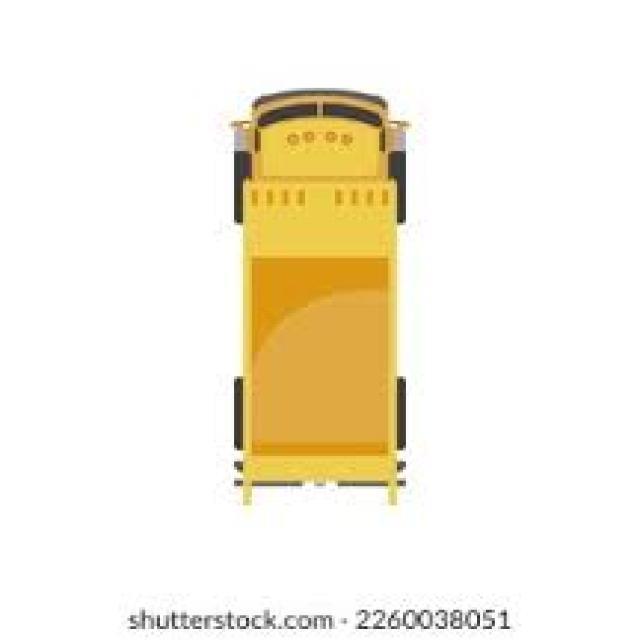truck: (231, 81, 414, 506)
